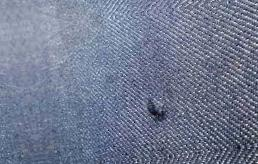knot: (145, 96, 170, 121)
